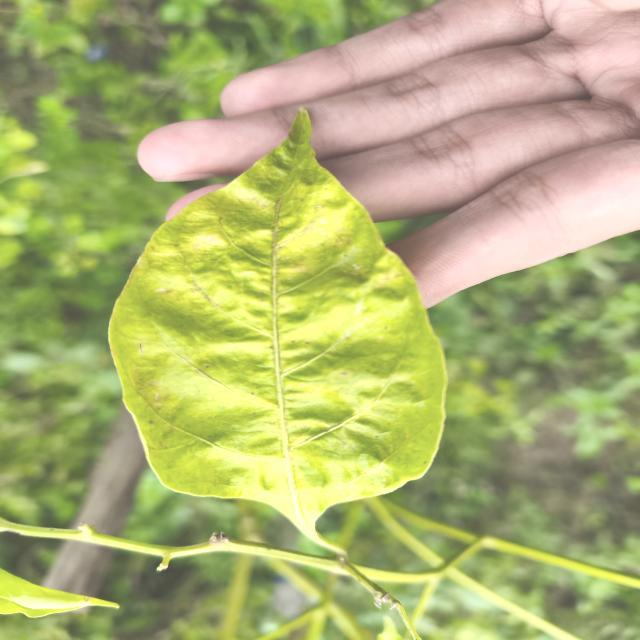Virus Kuning: (107, 108, 449, 524)
